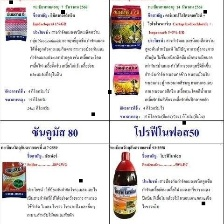insecticide: (110, 150, 141, 221), (107, 3, 144, 54), (0, 160, 29, 200), (111, 58, 140, 97), (1, 4, 28, 43)
